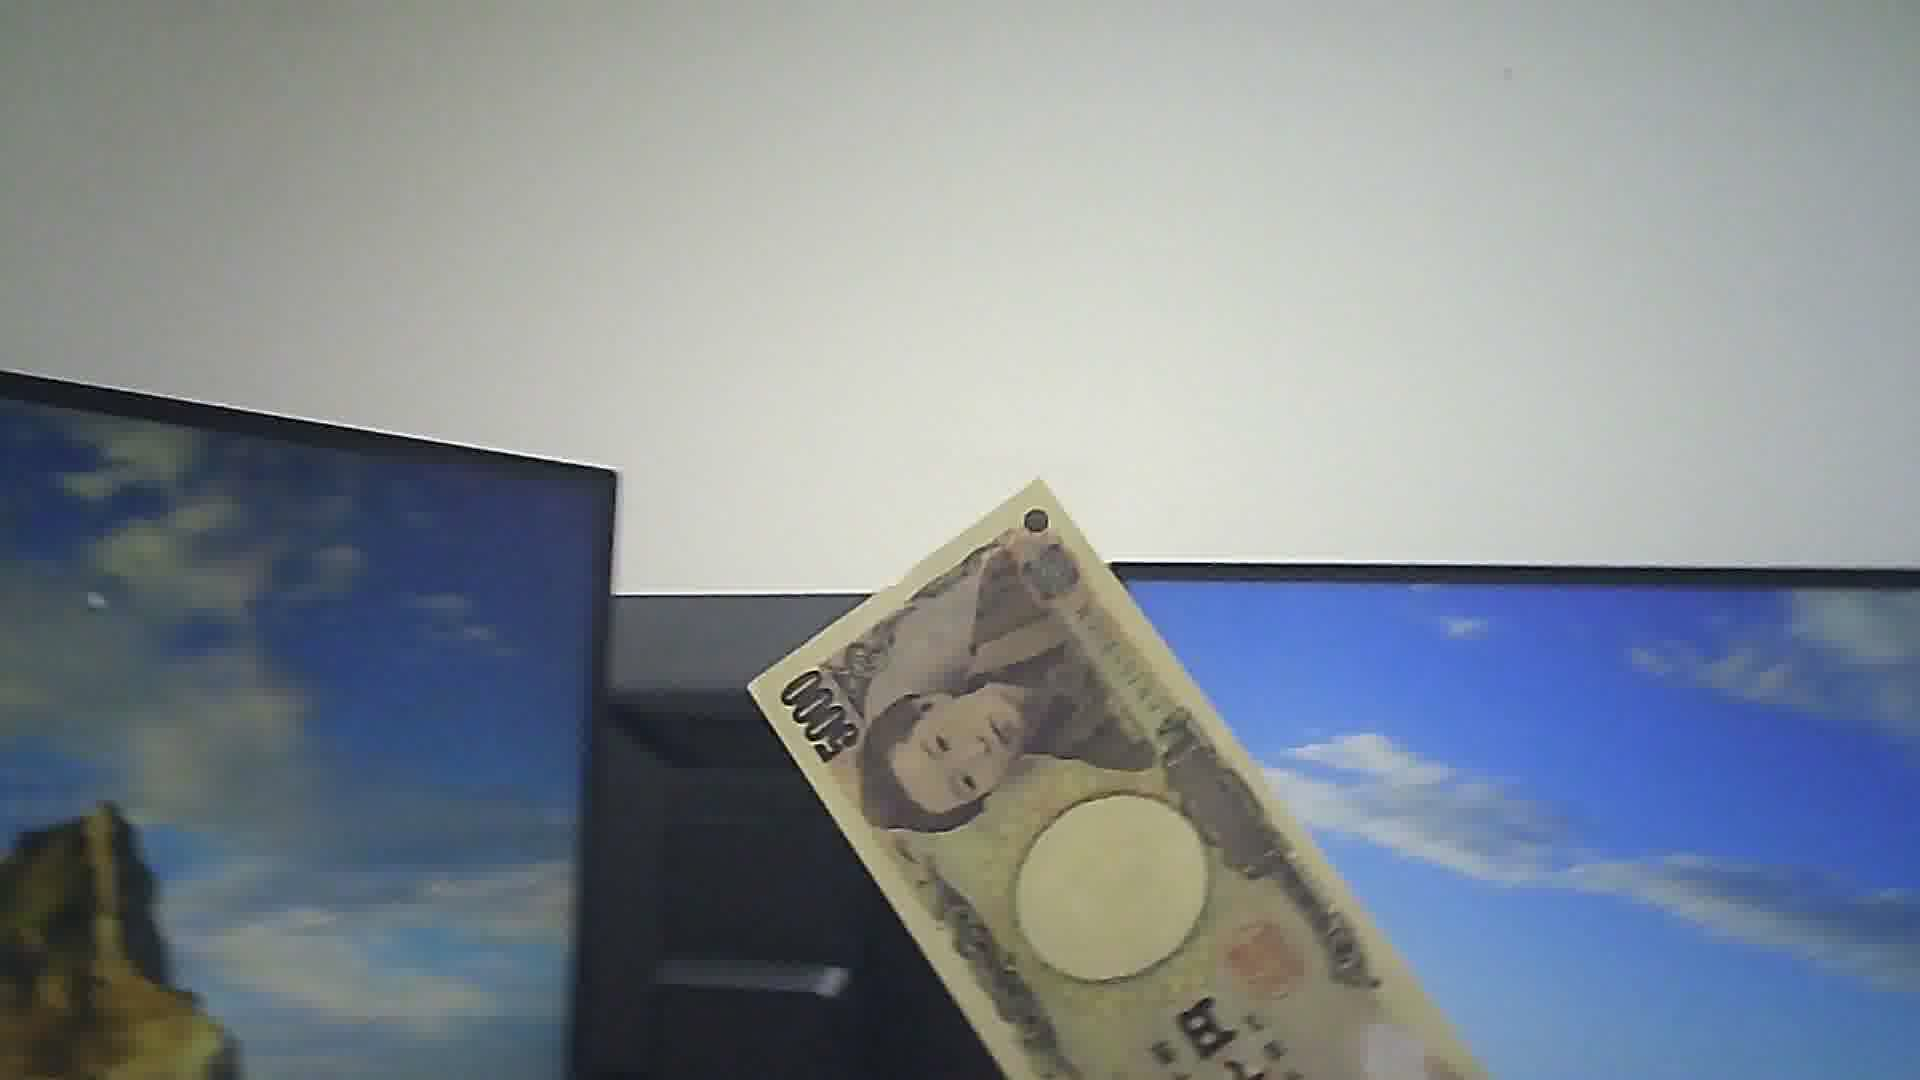5,000 Yen: (725, 488, 1451, 1064)
